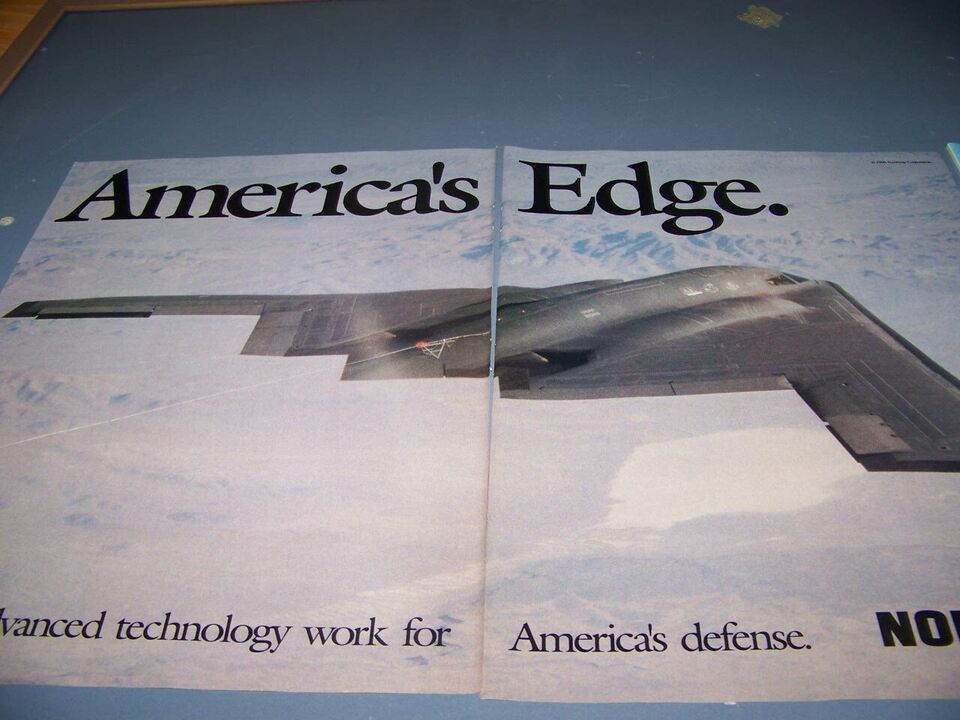B2: (1, 265, 960, 473)
